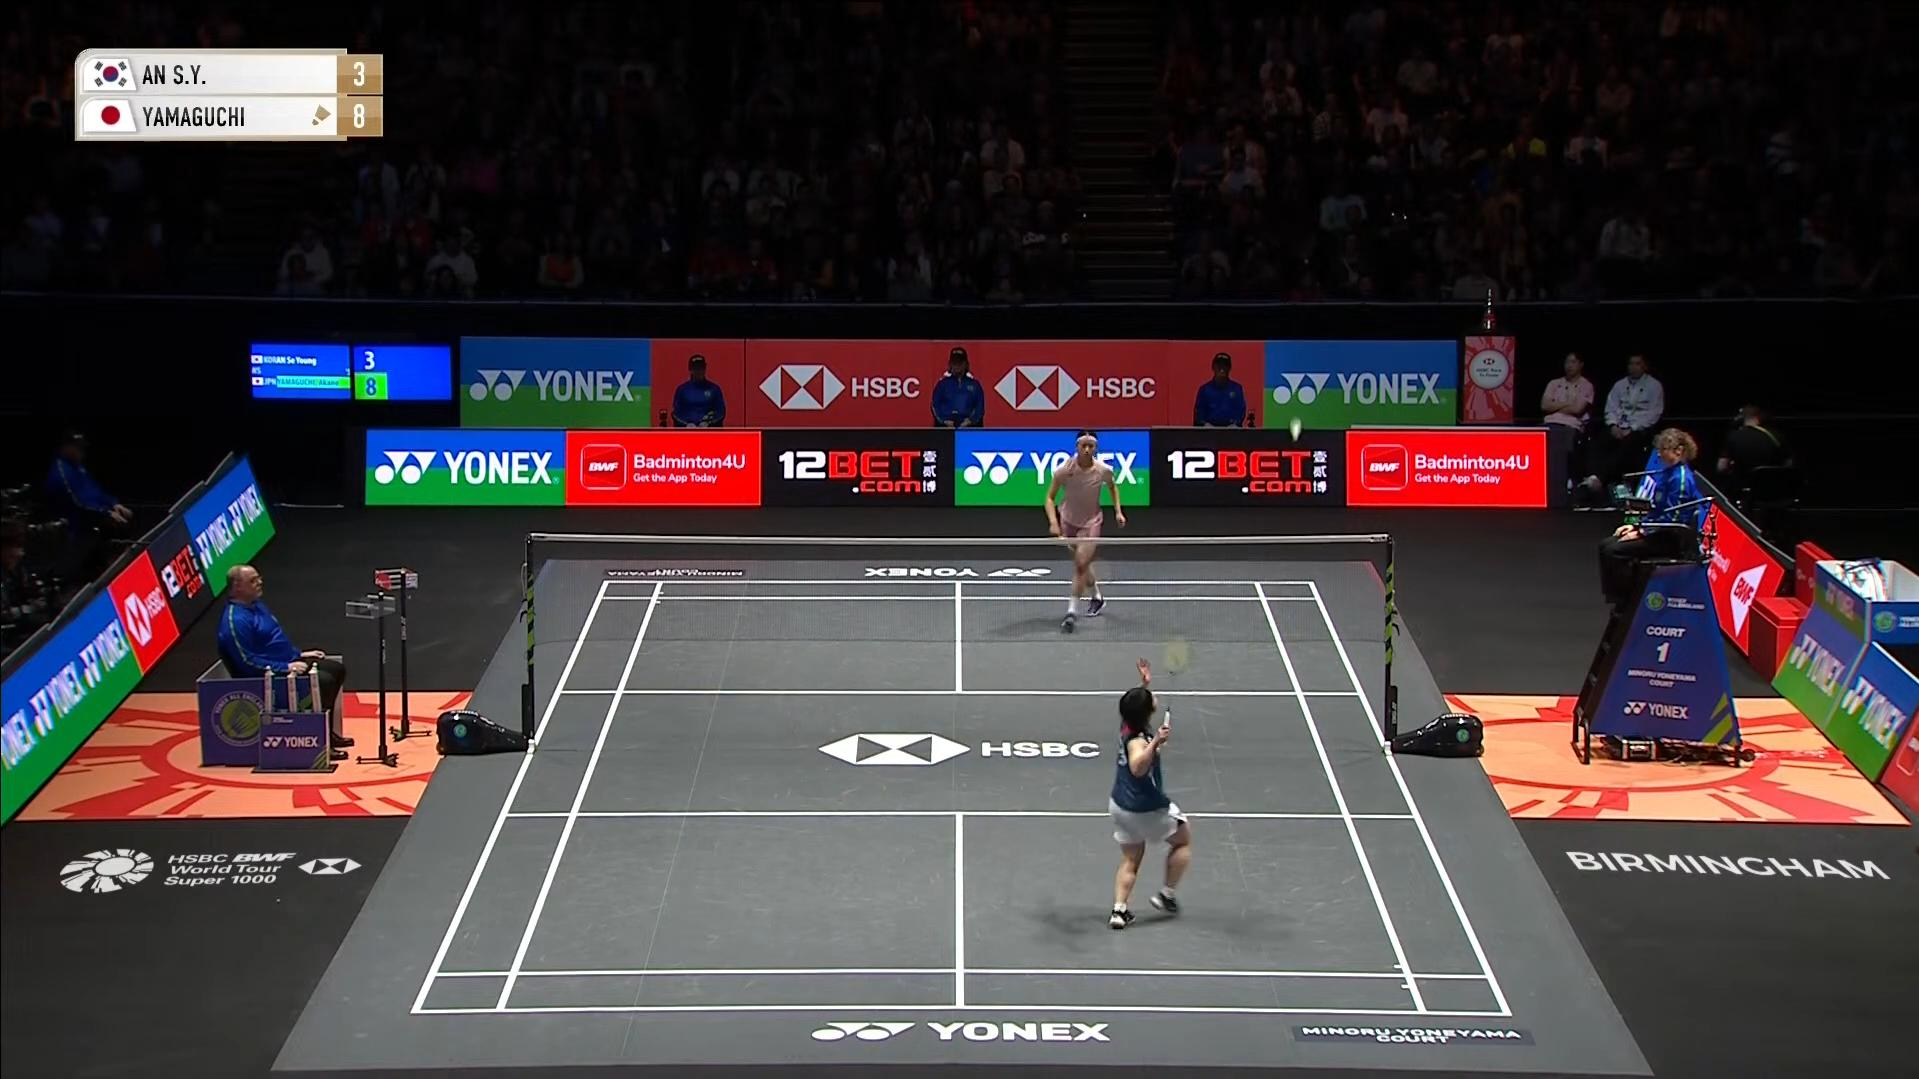shuttle: (1288, 416, 1309, 449)
